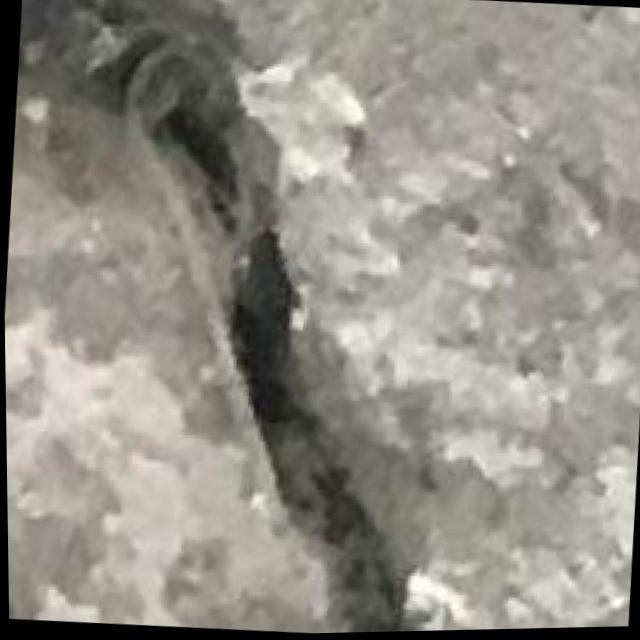Crack: (26, 0, 452, 640)
